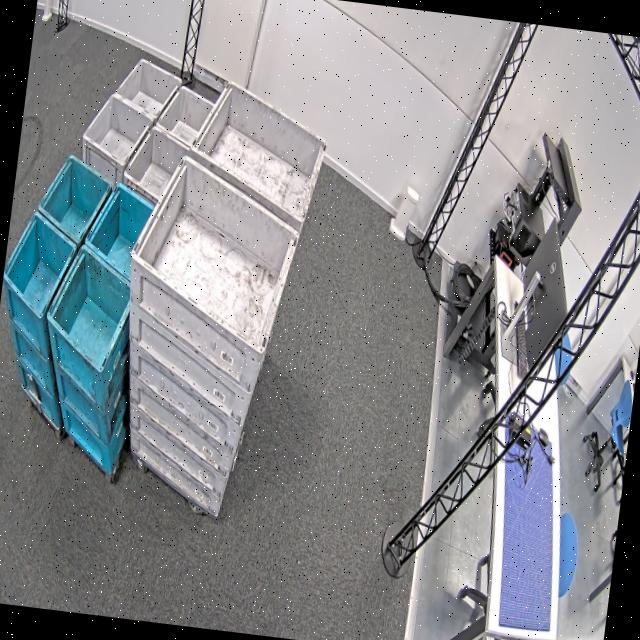Roll3G: (120, 148, 307, 356), (181, 74, 334, 228)
Roll8G: (78, 50, 185, 173), (119, 77, 217, 209)
RollB8: (39, 174, 160, 378), (0, 145, 117, 327)
